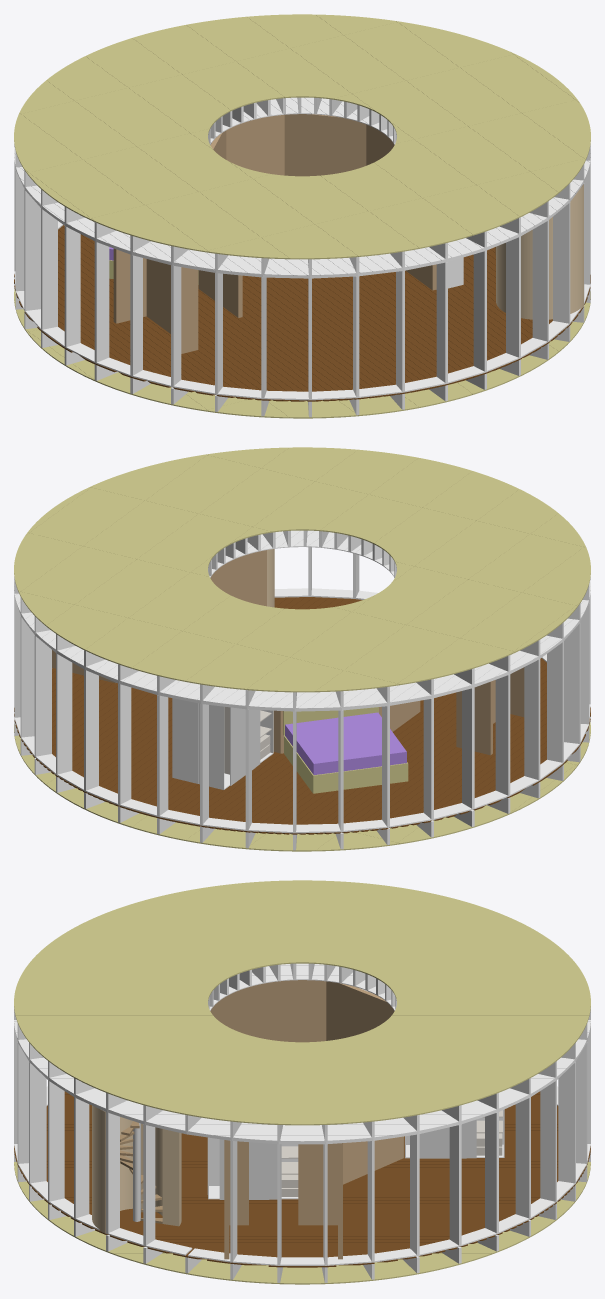
The model's file is casa_e_mobili2.glb.
3 views of the same model, one above another, from view 1: azimuth 30°, elevation 25°; view 2: azimuth 150°, elevation 25°; view 3: azimuth 270°, elevation 25° (orthographic).
Parts seen in each view (by area): view 1: Cube.003, Strohballenwand, OSB_R12_2_0.001, OSB_R12_3_-1.001, OSB_R12_2_1.001, OSB_R12_3_1.001, OSB_R12_4_0.001, OSB_R12_-4_0.001, OSB_R12_-3_0.001, OSB_R12_-3_1.001, OSB_R12_-2_-1.001, OSB_R12_2_-1.001 (+57 smaller); view 2: Matratze.001, OSB_R12_2_0.001, OSB_R12_3_1.001, OSB_R12_2_-1.001, OSB_R12_3_-1.001, OSB_R12_4_0.001, OSB_R12_-4_0.001, OSB_R12_-3_-1.001, OSB_R12_-3_0.001, OSB_R12_-2_1.001, OSB_R12_2_1.001, OSB_R12_-2_-1.001 (+61 smaller); view 3: Strohballenwand, Cube.001, OSB_R12_-2_0.001, OSB_R12_-4_0.001, OSB_R12_-3_-1.001, OSB_R12_-3_0.001, OSB_R12_-3_1.001, OSB_R12_3_0.001, OSB_R12_4_0.001, OSB_R12_-2_-1.001, OSB_R12_-2_1.001, OSB_R12_2_-1.001 (+64 smaller).
Boxes of the visible parts, bbox=[...] form: Cube.003: bbox=[284, 114, 366, 176]; Strohballenwand: bbox=[496, 184, 583, 319]; OSB_R12_2_0.001: bbox=[352, 81, 467, 139]; OSB_R12_3_-1.001: bbox=[468, 113, 583, 171]; OSB_R12_2_1.001: bbox=[290, 35, 405, 93]; OSB_R12_3_1.001: bbox=[344, 22, 459, 80]; OSB_R12_4_0.001: bbox=[460, 54, 575, 112]; OSB_R12_-4_0.001: bbox=[29, 159, 144, 218]; OSB_R12_-3_0.001: bbox=[83, 146, 198, 204]; OSB_R12_-3_1.001: bbox=[21, 101, 136, 159]; OSB_R12_-2_-1.001: bbox=[199, 179, 314, 237]; OSB_R12_2_-1.001: bbox=[414, 126, 529, 184]; Matratze.001: bbox=[285, 712, 406, 775]; OSB_R12_2_0.001: bbox=[137, 514, 252, 572]; OSB_R12_3_1.001: bbox=[21, 546, 136, 604]; OSB_R12_2_-1.001: bbox=[199, 468, 314, 526]; OSB_R12_3_-1.001: bbox=[145, 455, 260, 513]; OSB_R12_4_0.001: bbox=[29, 487, 144, 545]; OSB_R12_-4_0.001: bbox=[460, 592, 575, 651]; OSB_R12_-3_-1.001: bbox=[468, 534, 583, 592]; OSB_R12_-3_0.001: bbox=[406, 579, 521, 637]; OSB_R12_-2_1.001: bbox=[290, 612, 405, 670]; OSB_R12_2_1.001: bbox=[75, 559, 190, 617]; OSB_R12_-2_-1.001: bbox=[415, 521, 529, 579]; Strohballenwand: bbox=[92, 1105, 181, 1233]; Cube.001: bbox=[248, 980, 326, 1042]; OSB_R12_-2_0.001: bbox=[240, 936, 364, 963]; OSB_R12_-4_0.001: bbox=[240, 884, 364, 910]; OSB_R12_-3_-1.001: bbox=[116, 910, 240, 936]; OSB_R12_-3_0.001: bbox=[240, 910, 364, 936]; OSB_R12_-3_1.001: bbox=[364, 910, 488, 936]; OSB_R12_3_0.001: bbox=[240, 1068, 364, 1094]; OSB_R12_4_0.001: bbox=[240, 1094, 364, 1120]; OSB_R12_-2_-1.001: bbox=[116, 936, 240, 962]; OSB_R12_-2_1.001: bbox=[364, 936, 488, 962]; OSB_R12_2_-1.001: bbox=[116, 1041, 240, 1067].
Size of the model in its own units: 11.6 by 3.56 by 11.6.
